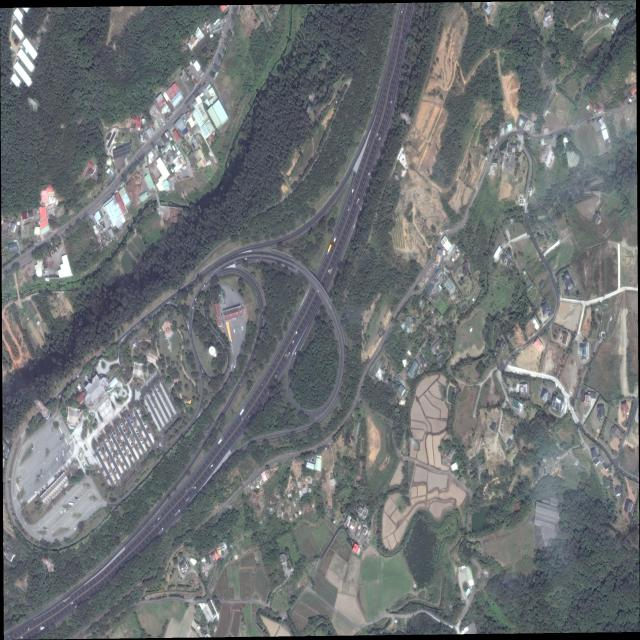storage-tank: (209, 346, 216, 356)
